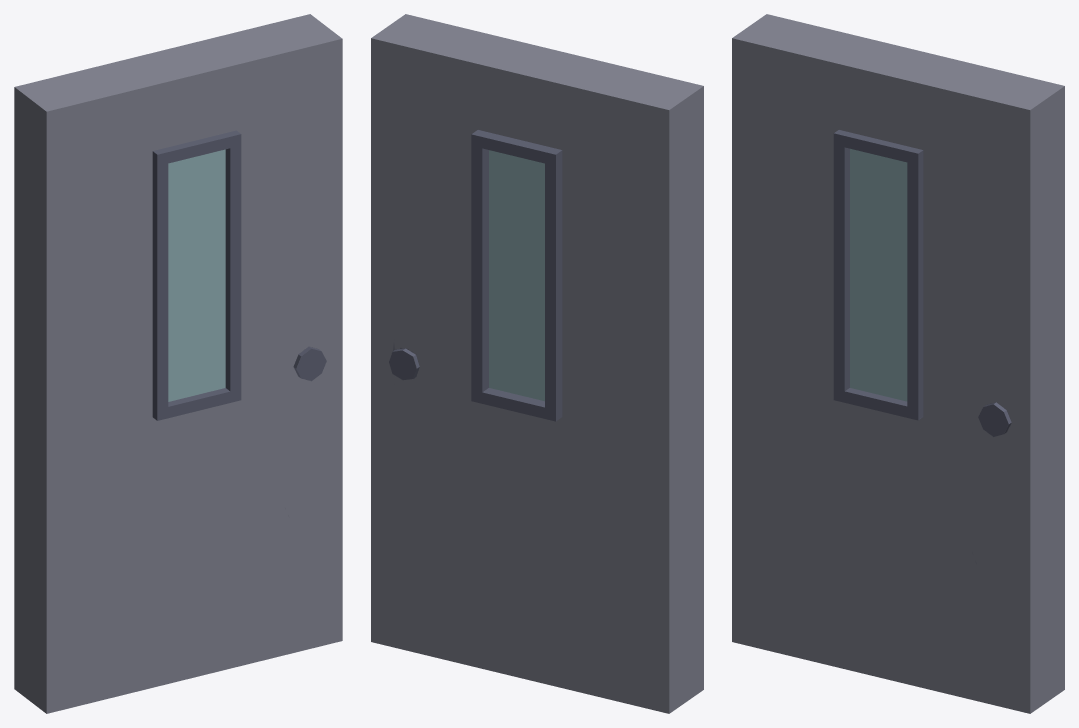
The model's file is Pintu.fbx.
3 views of the same model, side by side, from view 1: azimuth 30°, elevation 25°; view 2: azimuth 150°, elevation 25°; view 3: azimuth 330°, elevation 25° (orthographic).
Visible parts, largest first — view 1: 0 Pintu.001; view 2: 0 Pintu.001; view 3: 0 Pintu.001.
Boxes of the visible parts, x1,y1,x2,y2 form: 0 Pintu.001: (14, 14, 342, 713); 0 Pintu.001: (371, 14, 703, 713); 0 Pintu.001: (732, 14, 1064, 713).
Bounding box in the file's own units: 238 × 460 × 62.23.
